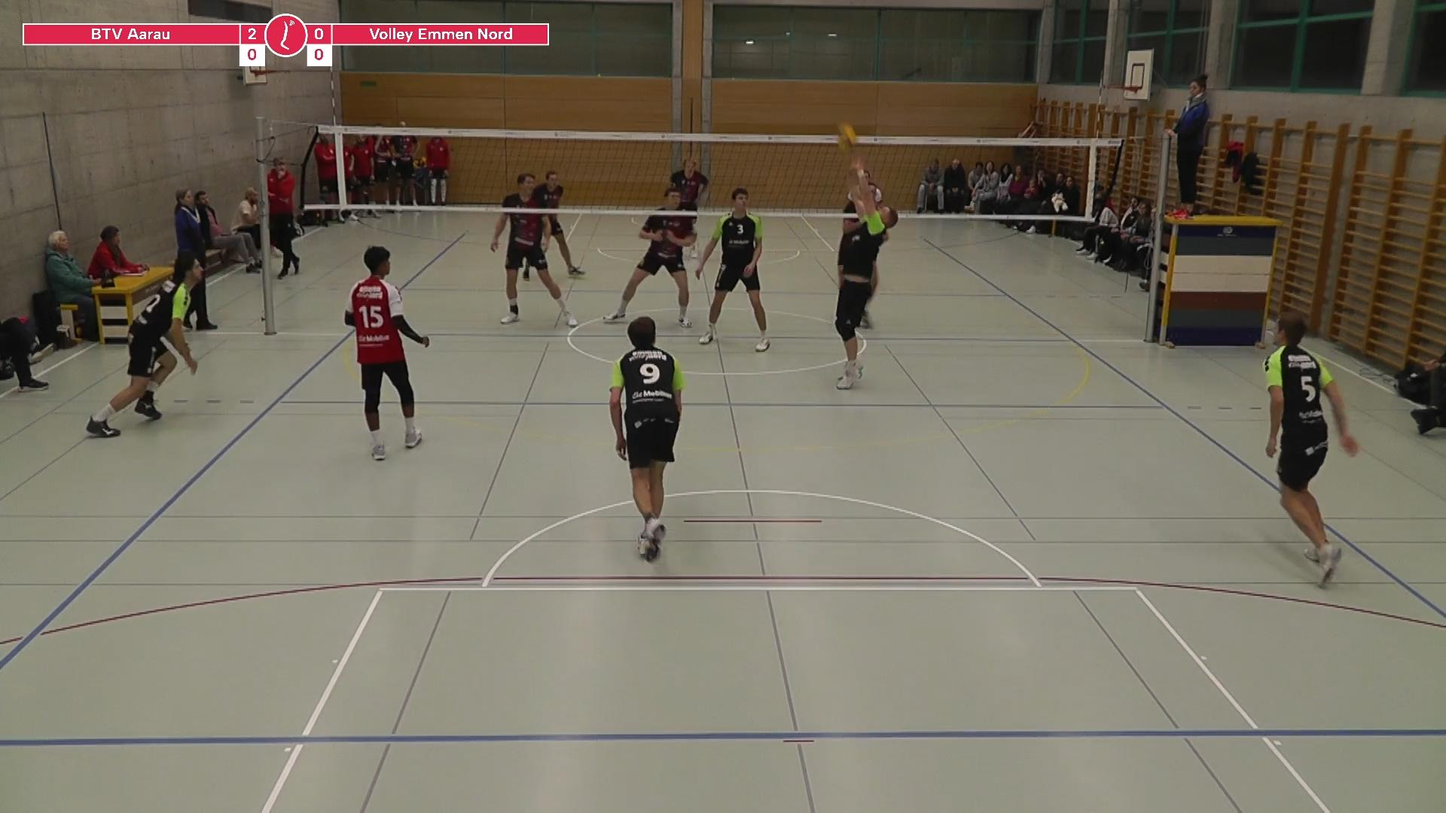Player: (1264, 313, 1358, 586), (87, 252, 203, 437), (609, 316, 684, 561), (344, 247, 429, 461), (490, 173, 577, 327), (604, 187, 695, 327), (696, 187, 770, 352), (548, 215, 583, 277), (670, 158, 709, 211), (670, 157, 709, 210), (866, 174, 882, 203)
Set: (831, 162, 900, 388)
ball: (830, 121, 864, 156)
